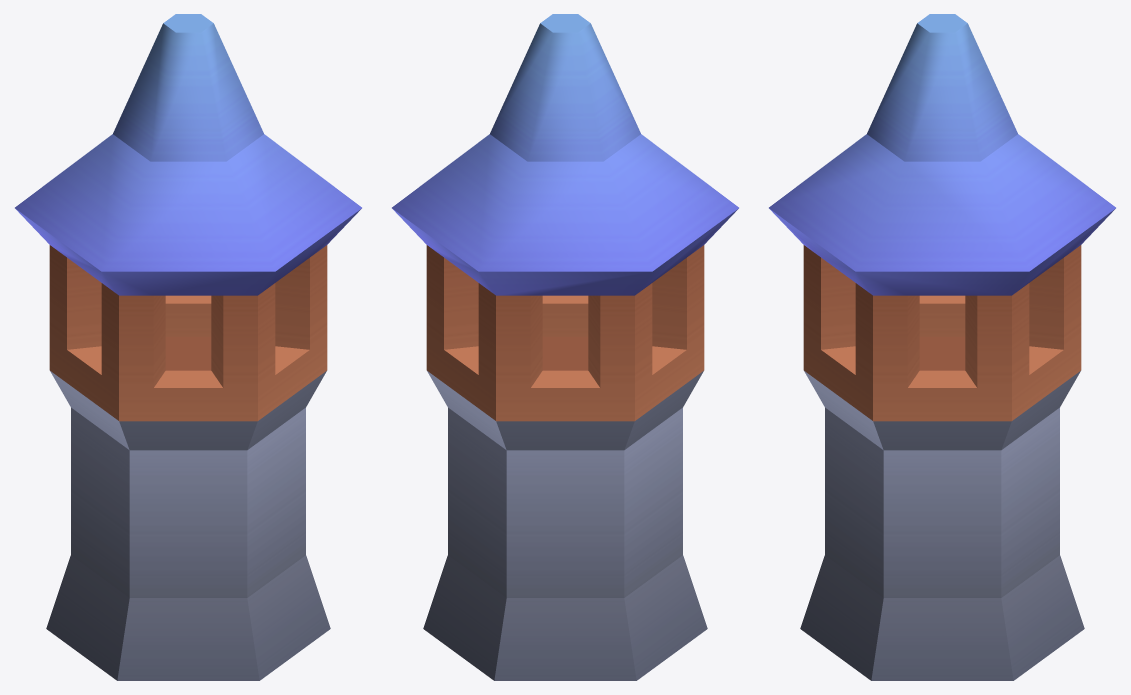
Rendered from single_tower.fbx.
The picture shows the model from 3 angles, left to right: view 1: azimuth 30°, elevation 25°; view 2: azimuth 150°, elevation 25°; view 3: azimuth 270°, elevation 25°; orthographic projection.
Visible parts, largest first — view 1: unit_tower; view 2: unit_tower; view 3: unit_tower.
Boxes of the visible parts, x1,y1,x2,y2 form: unit_tower: [15, 14, 361, 680]; unit_tower: [392, 14, 738, 680]; unit_tower: [769, 14, 1115, 680].
Bounding box in the file's own units: 36.99 × 82 × 42.72.
